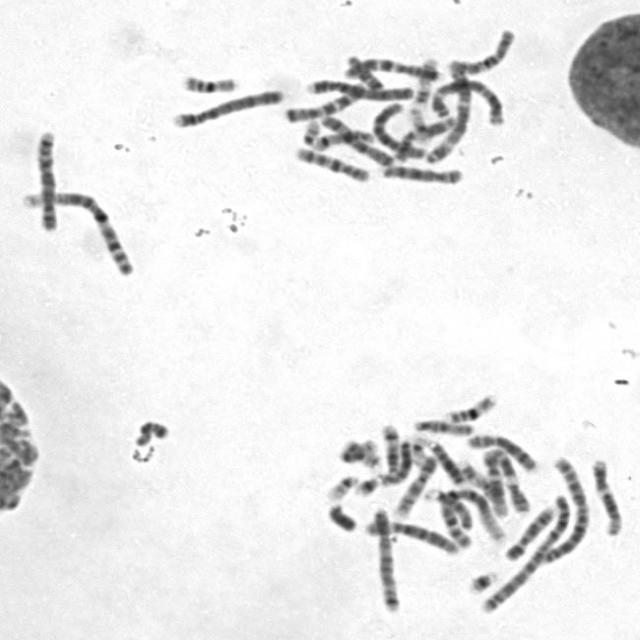A1: (17, 185, 137, 278), (433, 482, 509, 550)
A2: (478, 492, 573, 614), (530, 453, 590, 565)
A3: (422, 62, 474, 166), (426, 74, 507, 127)
B4: (166, 83, 286, 130), (303, 74, 417, 104)
B5: (367, 503, 403, 615), (30, 125, 60, 232)
C10: (445, 24, 518, 76), (289, 142, 372, 184)
C11: (482, 444, 534, 514), (393, 114, 459, 164)
C12: (588, 453, 625, 537), (479, 443, 512, 519)
C6: (360, 515, 462, 557), (368, 98, 426, 160)
C7: (280, 76, 370, 124), (343, 52, 444, 82)
C8: (462, 429, 540, 473), (375, 159, 466, 186)
C9: (500, 500, 560, 562), (389, 451, 439, 519)
D13: (424, 436, 468, 486), (377, 441, 416, 483)
D14: (307, 125, 375, 152), (374, 418, 399, 484)
D15: (422, 485, 476, 532), (409, 414, 476, 436)
E16: (443, 389, 500, 424), (176, 69, 240, 94)
E17: (454, 456, 509, 498), (408, 54, 439, 108)
E18: (343, 51, 387, 93), (129, 415, 171, 447)
F19: (406, 104, 432, 145), (406, 430, 430, 467)
F20: (336, 436, 376, 464), (347, 440, 378, 470)
G21: (464, 566, 500, 594), (352, 470, 383, 498)
G22: (321, 470, 361, 502), (298, 115, 325, 149)
X: (316, 110, 398, 168)
Y: (323, 499, 359, 533)
